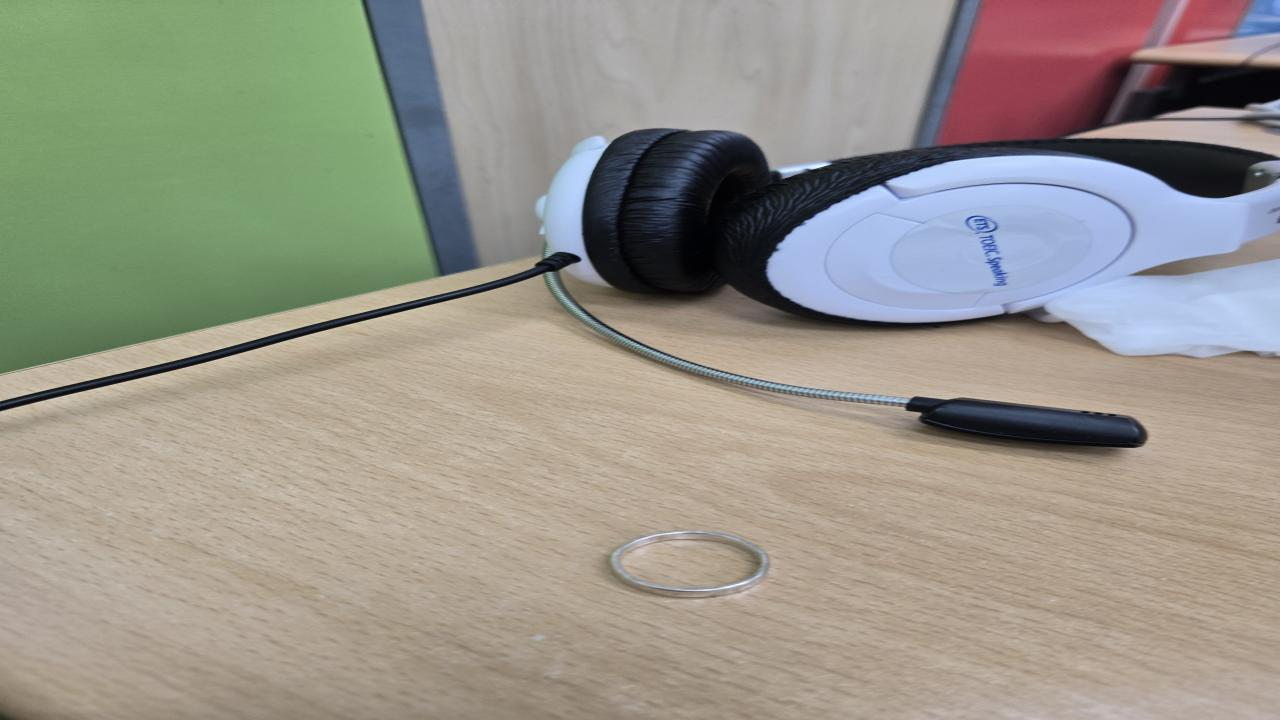ring: (607, 529, 774, 599)
